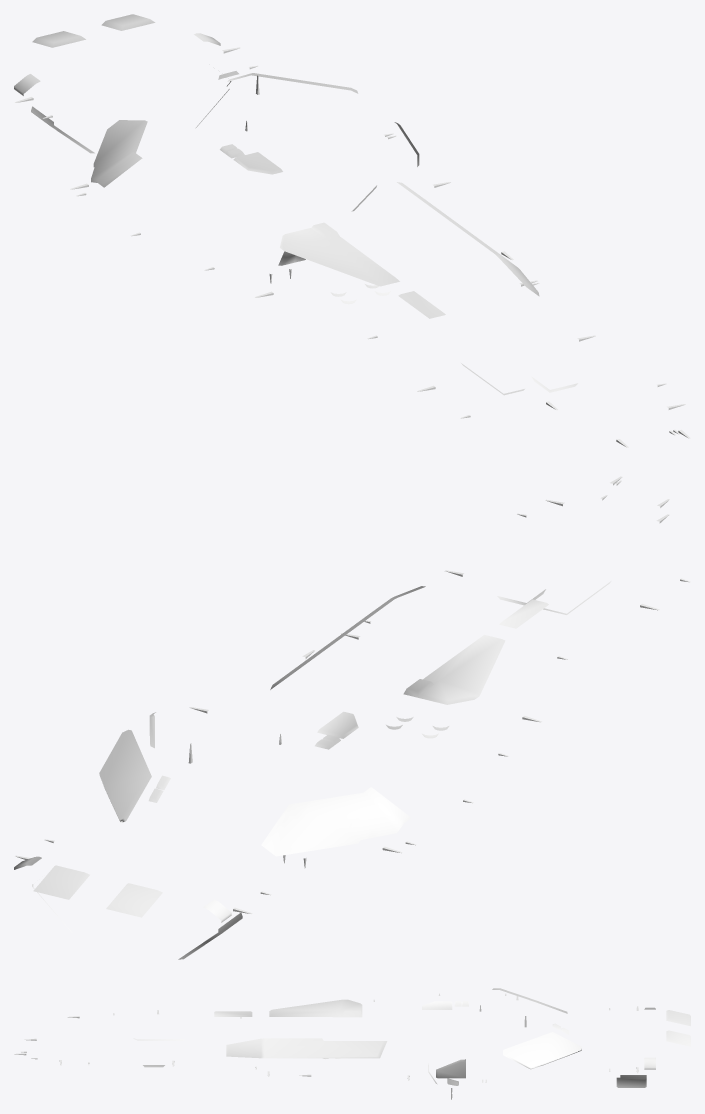
The model's file is hgn_fs_expl_04.glb.
3 views of the same model, one above another, from view 1: azimuth 30°, elevation 25°; view 2: azimuth 150°, elevation 25°; view 3: azimuth 270°, elevation 25° (orthographic). The views are drawn at different scales.
Visible parts, largest first — view 1: hgn_flagship_explorer_04_LOD0; view 2: hgn_flagship_explorer_04_LOD0; view 3: hgn_flagship_explorer_04_LOD0.
Boxes of the visible parts, x1,y1,x2,y2 form: hgn_flagship_explorer_04_LOD0: [14, 14, 690, 447]; hgn_flagship_explorer_04_LOD0: [14, 476, 690, 959]; hgn_flagship_explorer_04_LOD0: [14, 988, 690, 1099].
Size of what is drawn, in the model's own units: 6.2 by 2.98 by 19.83.
1 material, 1 textured.
